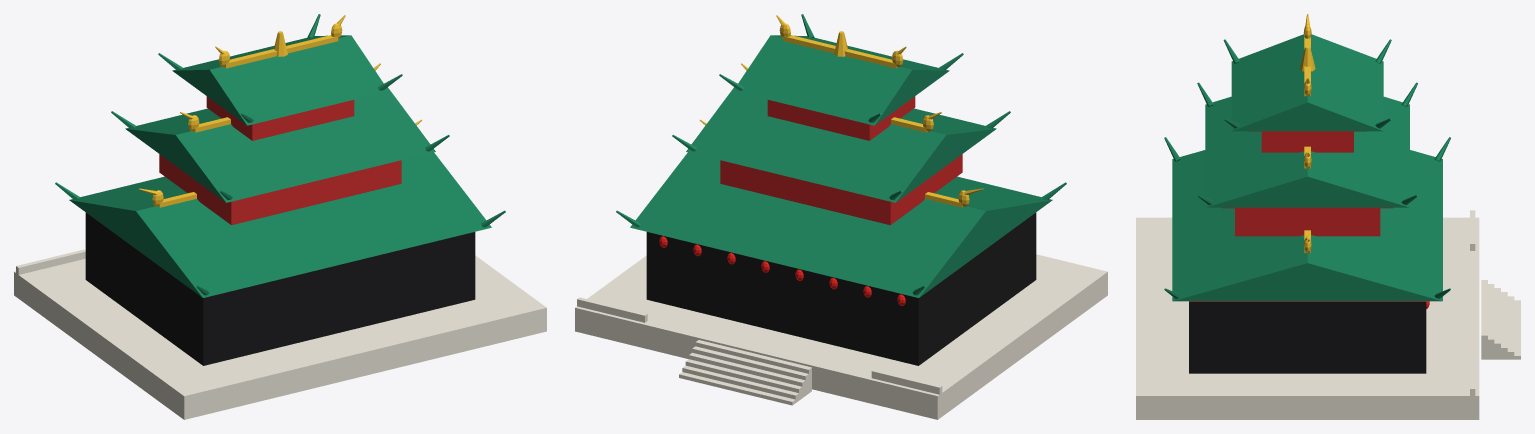
File: env_lm2_thean_hou.fbx
3 views of the same model, side by side, from view 1: azimuth 30°, elevation 25°; view 2: azimuth 150°, elevation 25°; view 3: azimuth 270°, elevation 25° (orthographic).
Visible parts, largest first — view 1: env_lm2_thean_hou_geo_LOD0, COL_env_lm2_thean_hou; view 2: env_lm2_thean_hou_geo_LOD0, COL_env_lm2_thean_hou; view 3: env_lm2_thean_hou_geo_LOD0, COL_env_lm2_thean_hou.
Boxes of the visible parts, x1,y1,x2,y2 form: env_lm2_thean_hou_geo_LOD0: (14,14,546,419); COL_env_lm2_thean_hou: (85,212,475,365); env_lm2_thean_hou_geo_LOD0: (575,14,1107,419); COL_env_lm2_thean_hou: (646,212,1036,365); env_lm2_thean_hou_geo_LOD0: (1136,14,1520,419); COL_env_lm2_thean_hou: (1189,302,1426,373).
Size of what is drawn, in the model's own units: 32 by 23.91 by 29.15.
